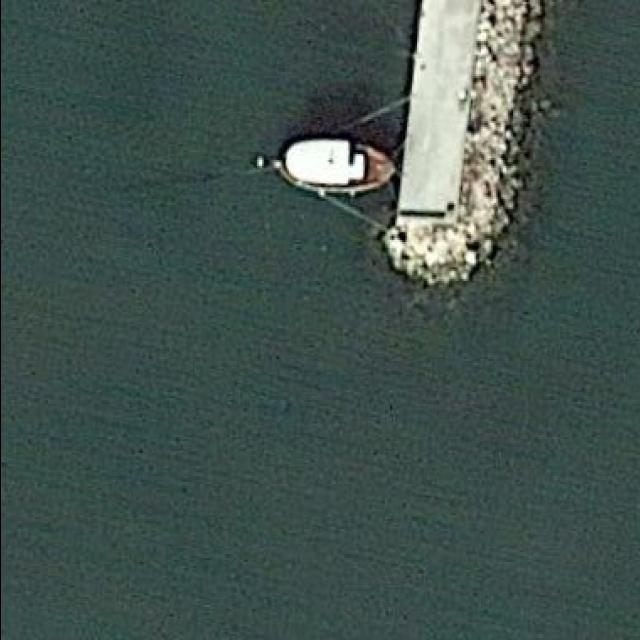ship: (270, 131, 398, 201)
